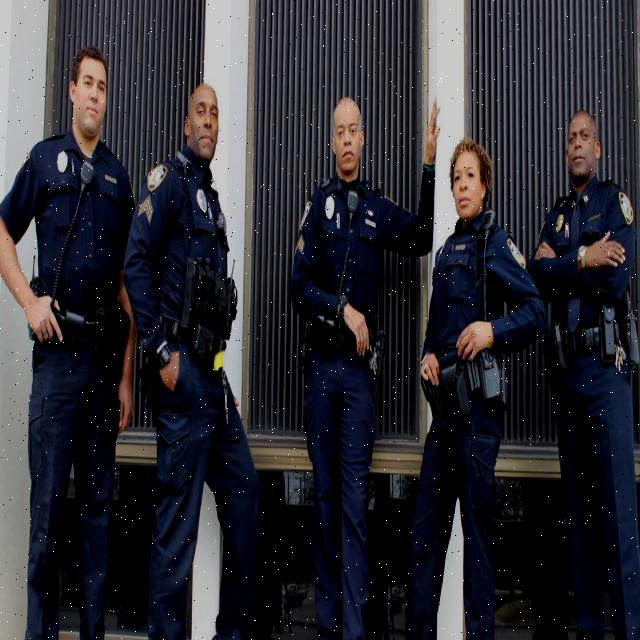police: (1, 36, 148, 640), (288, 73, 432, 640), (139, 43, 262, 640), (402, 133, 543, 640), (548, 97, 640, 640)
